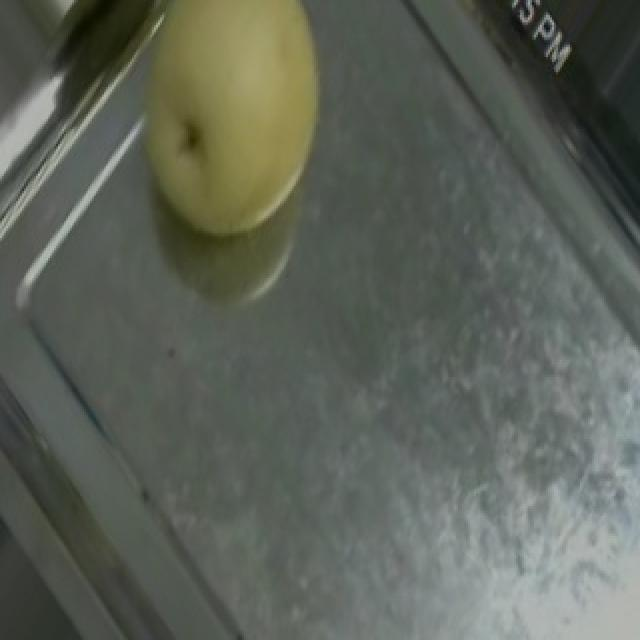Fruit: (96, 0, 372, 273)
